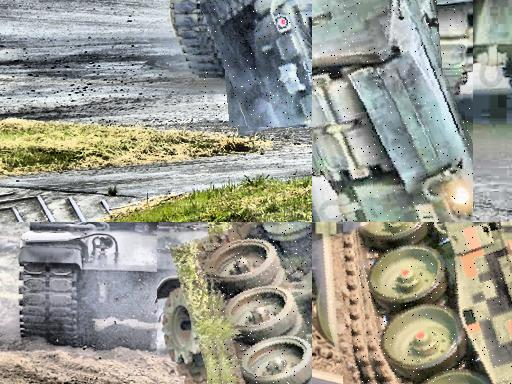tanks: (313, 1, 474, 223), (22, 223, 310, 345), (358, 223, 512, 384), (210, 223, 313, 384), (200, 1, 313, 128)
